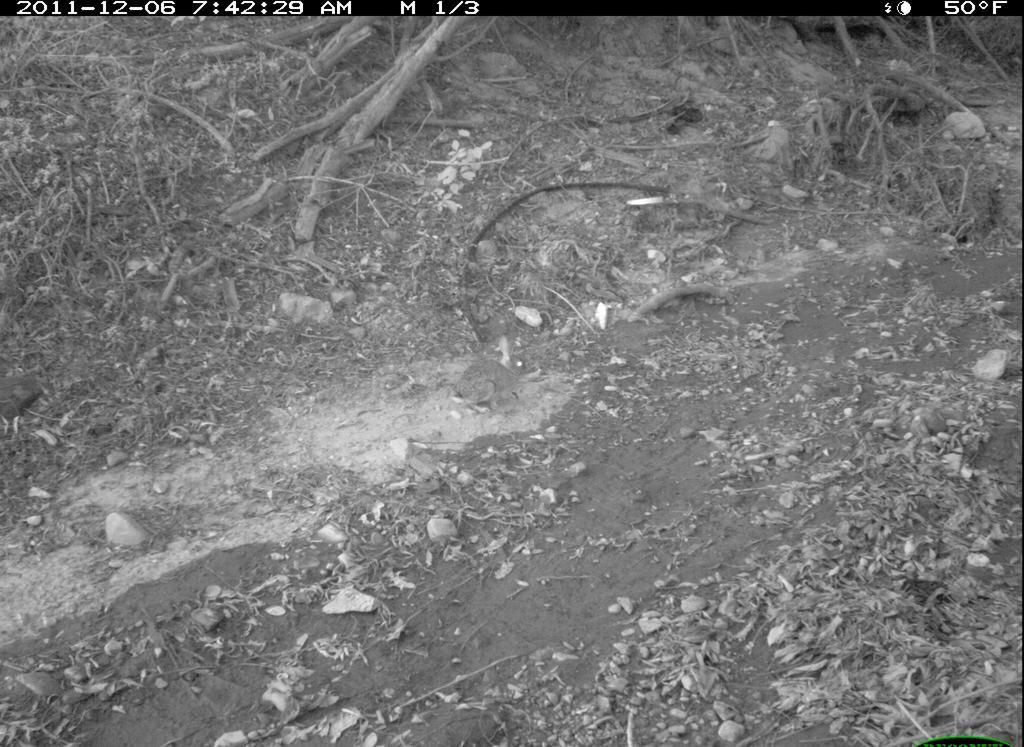rabbit: (453, 329, 534, 416)
